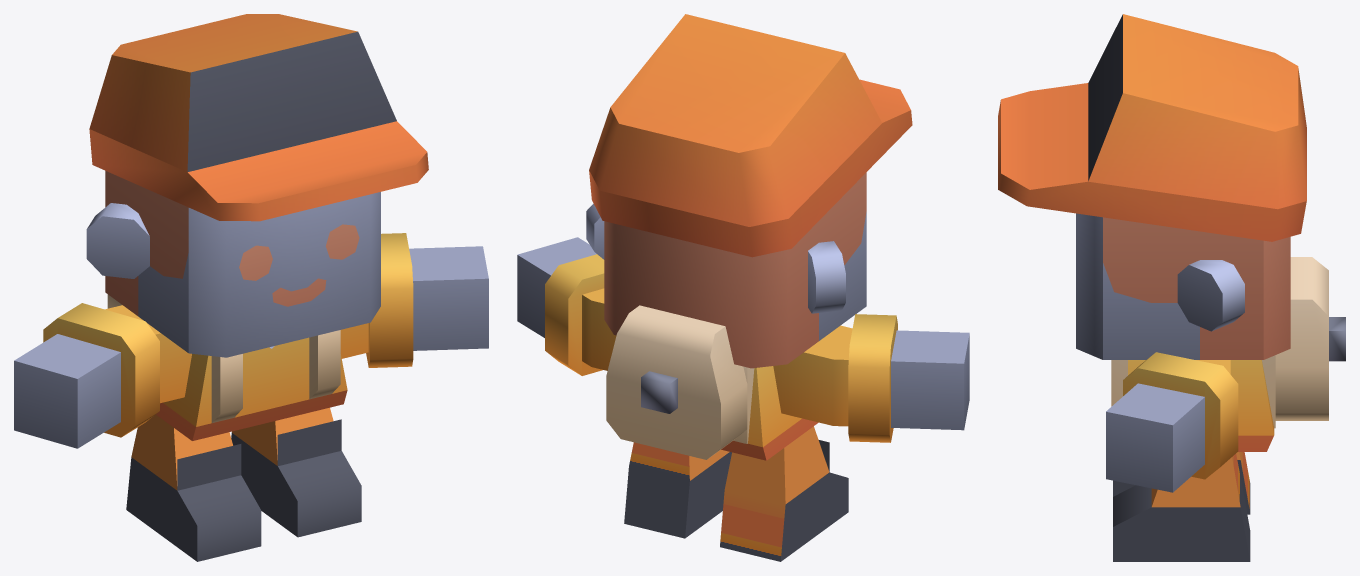
File: character-gamer.obj
The picture shows the model from 3 angles, left to right: view 1: azimuth 30°, elevation 25°; view 2: azimuth 150°, elevation 25°; view 3: azimuth 270°, elevation 25°; orthographic projection. The views are drawn at different scales.
Visible parts, largest first — view 1: head-mesh, body-mesh; view 2: head-mesh, body-mesh; view 3: head-mesh, body-mesh.
Part boxes in pixels (x1,y1,x2,y2): head-mesh: [86, 14, 428, 357]; body-mesh: [14, 233, 488, 561]; head-mesh: [586, 14, 912, 368]; body-mesh: [517, 237, 969, 561]; head-mesh: [998, 14, 1306, 359]; body-mesh: [1106, 257, 1345, 561].
Bounding box in the file's own units: 0.7806 × 0.7733 × 0.5189.
